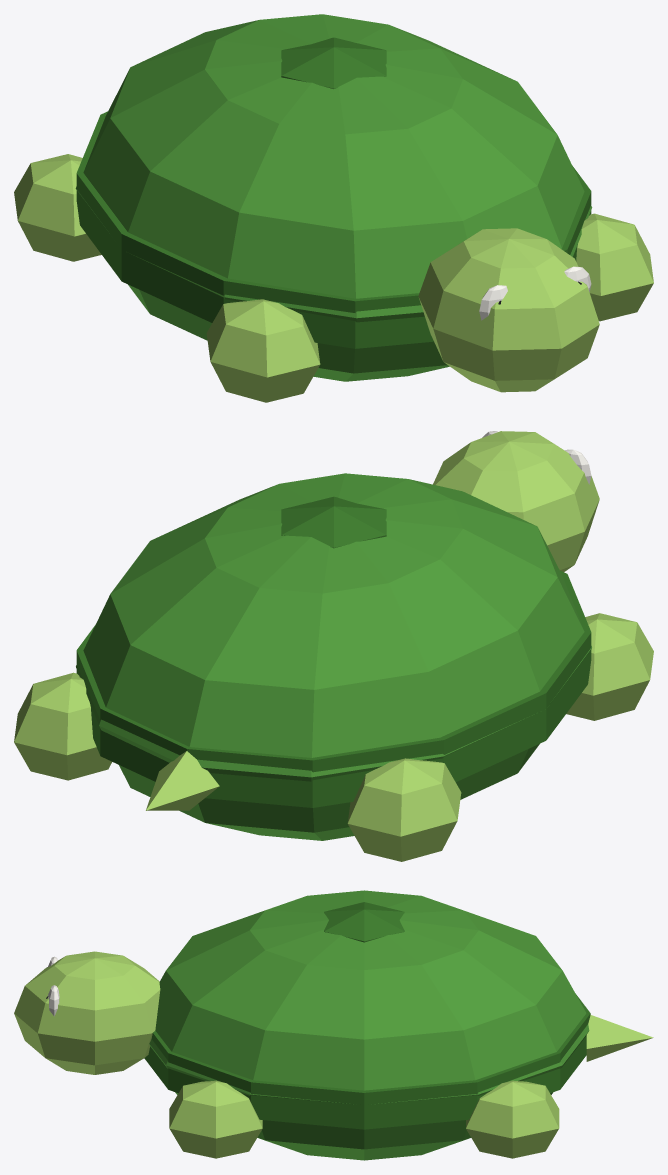
File: turtle_plain.glb
The picture shows the model from 3 angles, top to bottom: view 1: azimuth 30°, elevation 25°; view 2: azimuth 150°, elevation 25°; view 3: azimuth 270°, elevation 25°; orthographic projection. The views are drawn at different scales.
Visible parts, largest first — view 1: shell_turtle_shell, head_turtle_skin, legs_turtle_skin, shell_turtle_plate, face_white; view 2: shell_turtle_shell, shell_turtle_plate, legs_turtle_skin, head_turtle_skin, tail_turtle_skin; view 3: shell_turtle_shell, shell_turtle_plate, head_turtle_skin, legs_turtle_skin, tail_turtle_skin.
Part boxes in pixels (x1,y1,x2,y2): shell_turtle_shell: (75, 14, 592, 381); head_turtle_skin: (418, 228, 599, 392); legs_turtle_skin: (14, 154, 653, 402); shell_turtle_plate: (76, 37, 591, 348); face_white: (479, 266, 591, 320); shell_turtle_shell: (76, 473, 591, 840); shell_turtle_plate: (76, 496, 591, 807); legs_turtle_skin: (14, 613, 653, 861); head_turtle_skin: (433, 431, 599, 571); tail_turtle_skin: (146, 751, 219, 810); shell_turtle_shell: (149, 890, 589, 1160); shell_turtle_plate: (144, 902, 590, 1129); head_turtle_skin: (14, 951, 160, 1074); legs_turtle_skin: (169, 1080, 559, 1158); tail_turtle_skin: (586, 1015, 653, 1061).
Size of the model in its own units: 0.29 by 0.185 by 0.475.
